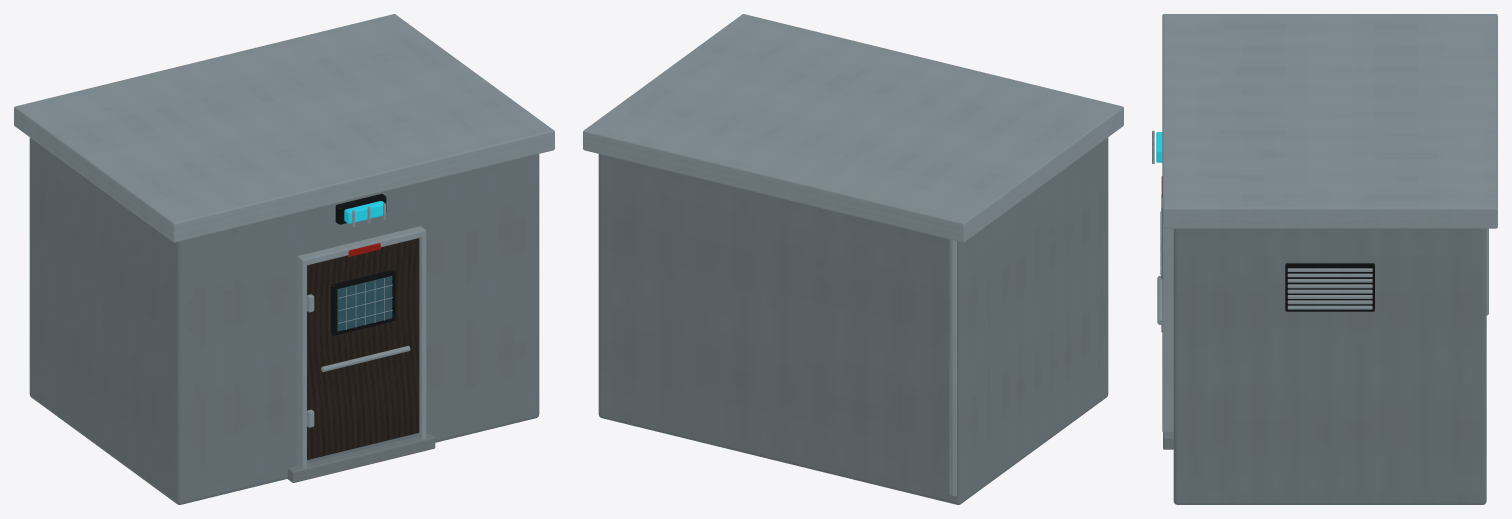
Rendered from hut.glb.
3 renders of one model, left to right at view 1: azimuth 30°, elevation 25°; view 2: azimuth 150°, elevation 25°; view 3: azimuth 270°, elevation 25°, orthographic. The views are drawn at different scales.
Parts seen in each view (by area): view 1: hut; view 2: hut; view 3: hut.
Part boxes in pixels (x1=…): hut: x1=14, y1=14, x2=554, y2=504; hut: x1=583, y1=14, x2=1123, y2=504; hut: x1=1152, y1=14, x2=1497, y2=504.
Bounding box in the file's own units: 4 × 2.9 × 3.
1 material, 1 textured.
